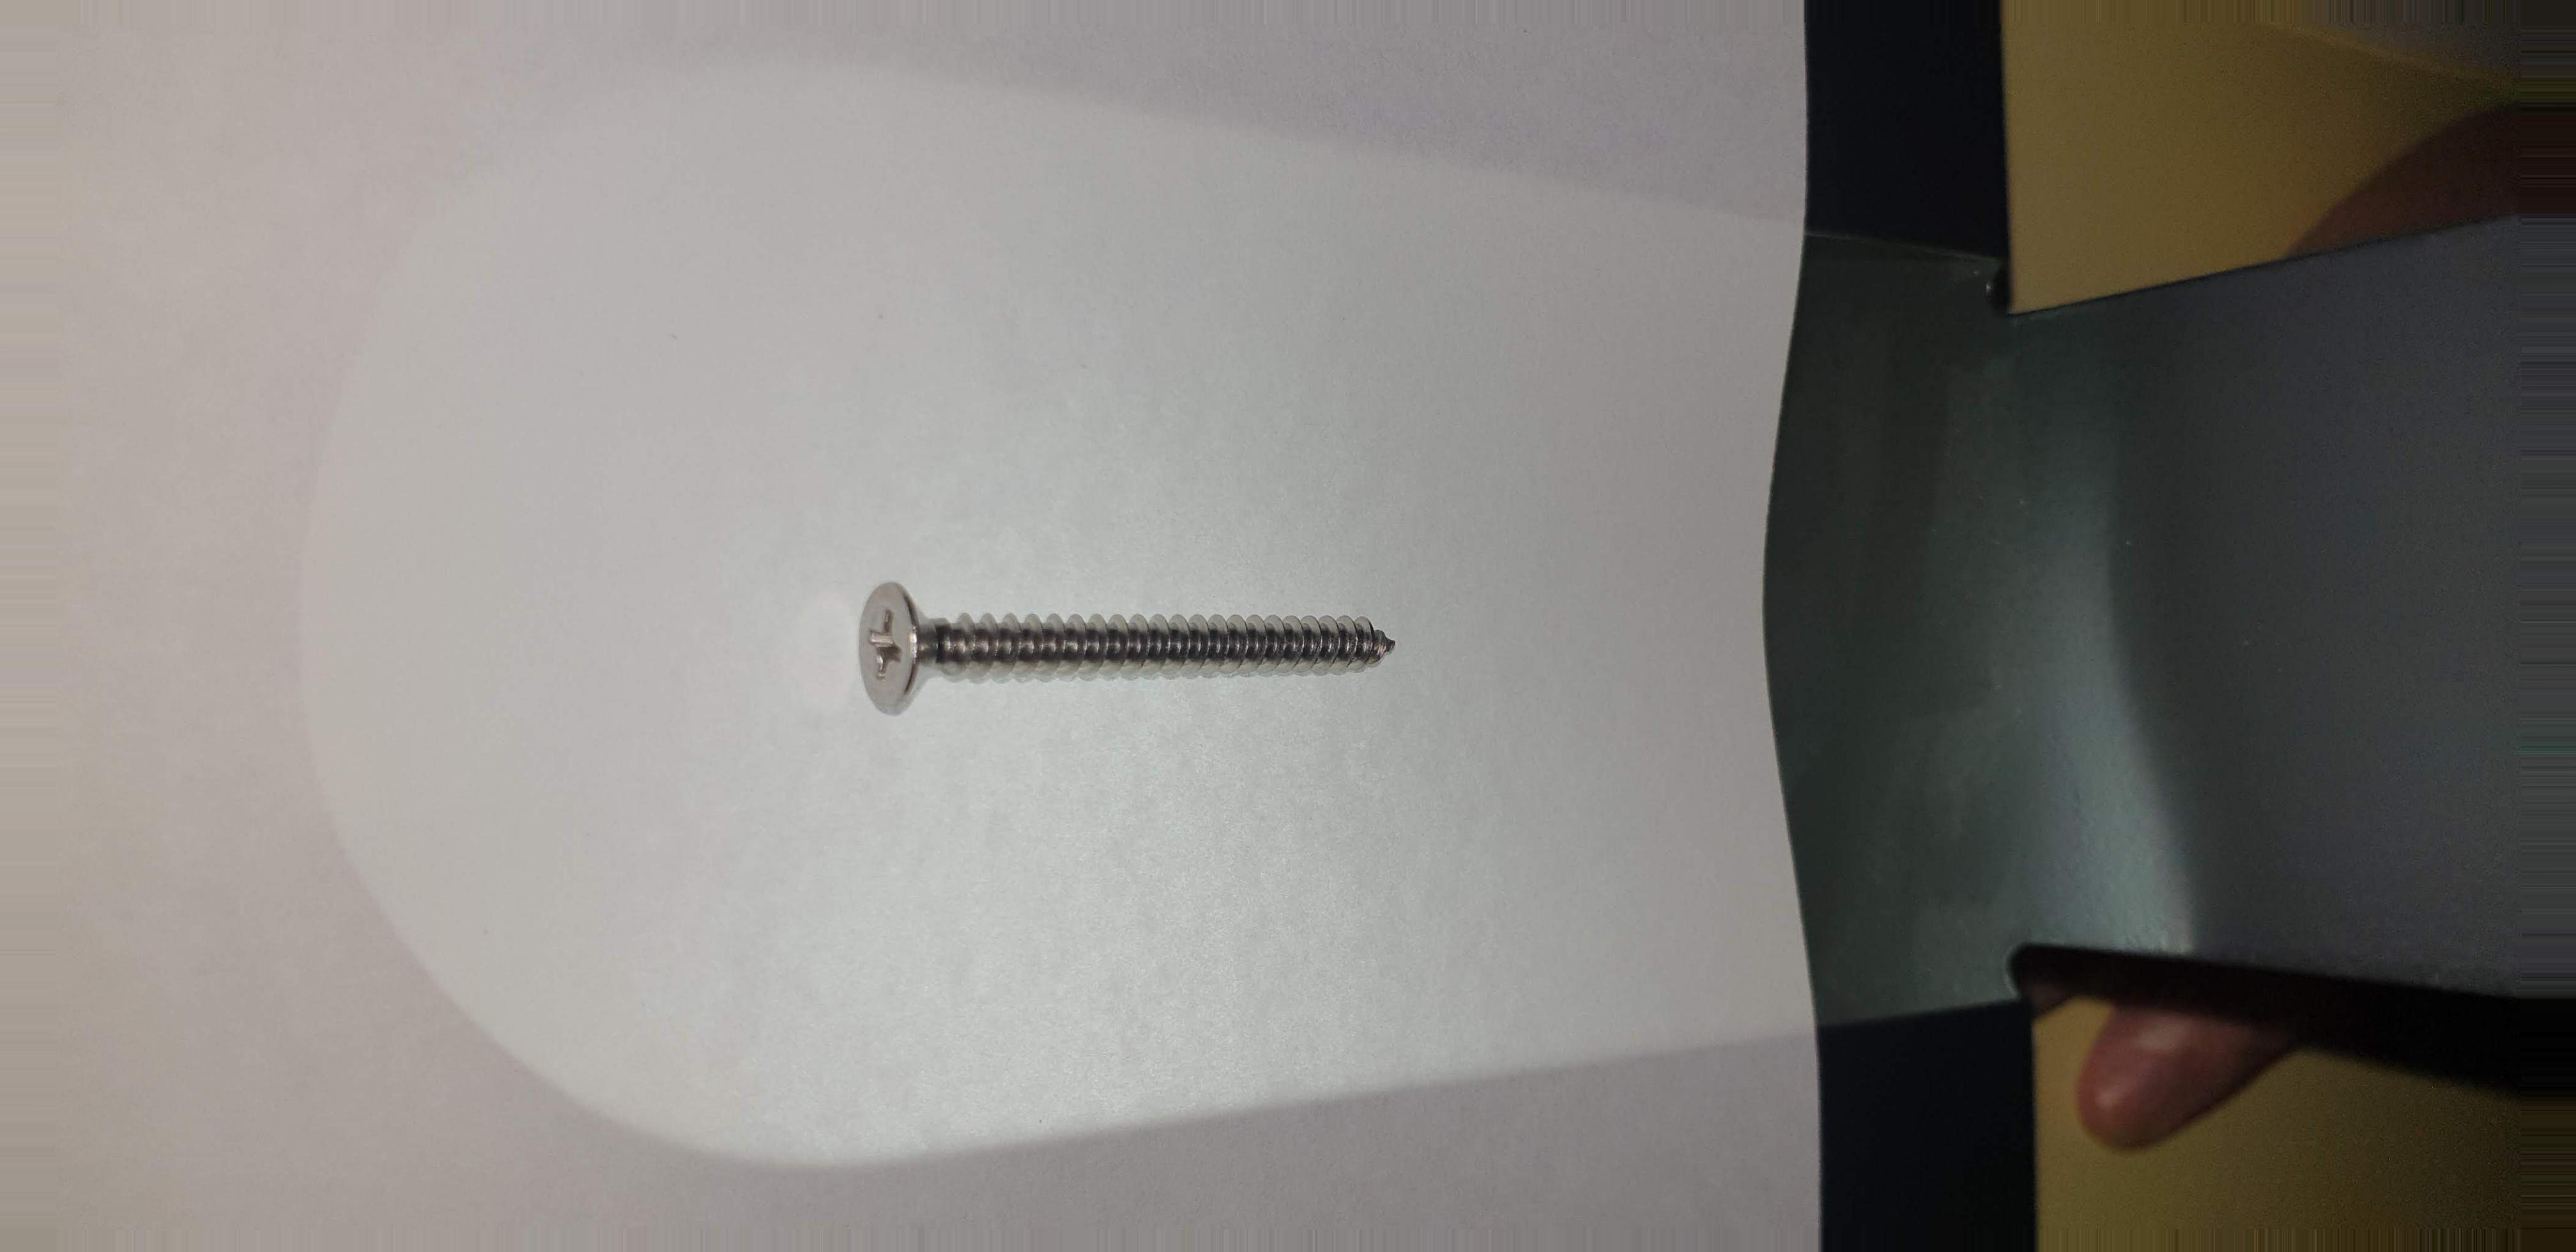fastener: (777, 506, 1483, 764)
